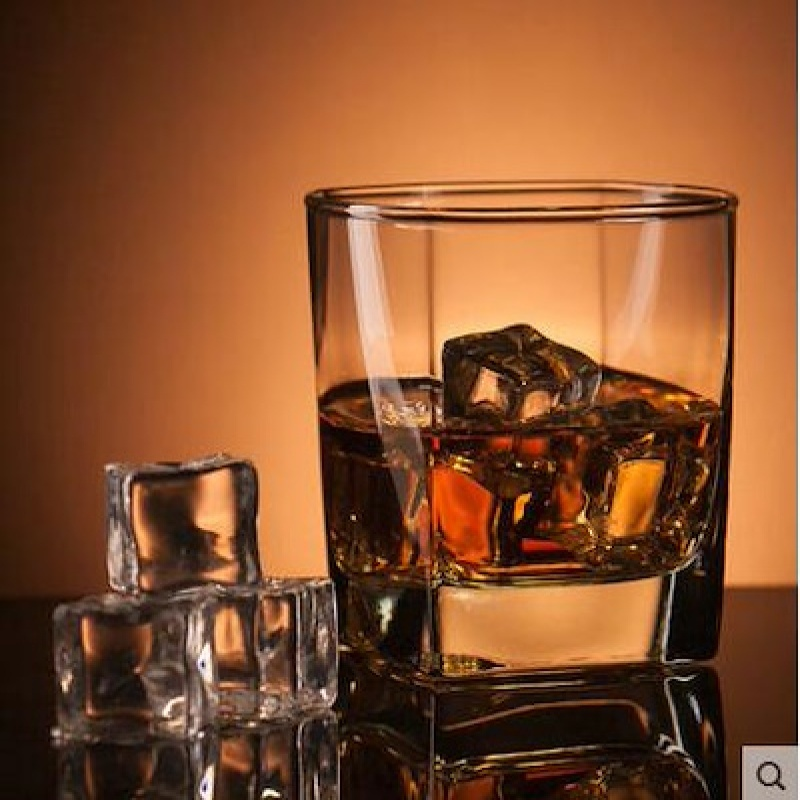whiskey: (298, 185, 744, 671)
